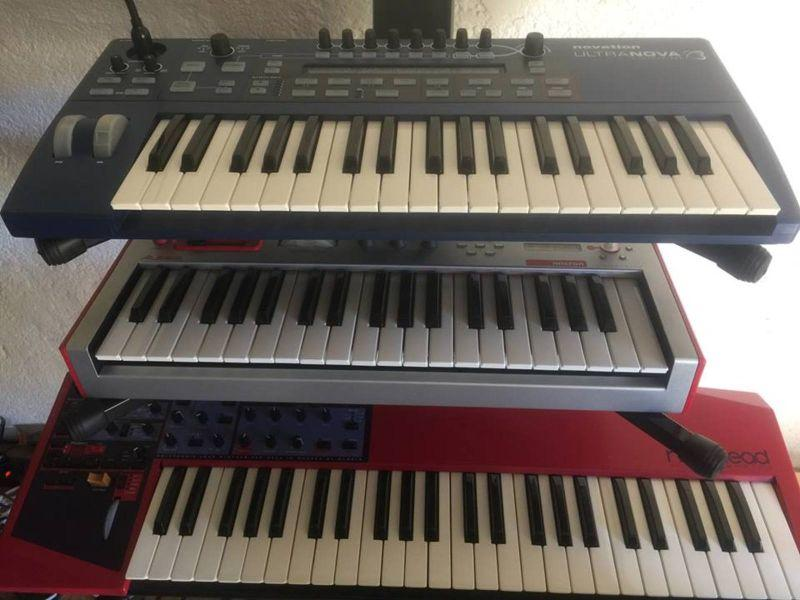synthesizer: (15, 28, 793, 219), (28, 413, 779, 582), (70, 245, 686, 385)
